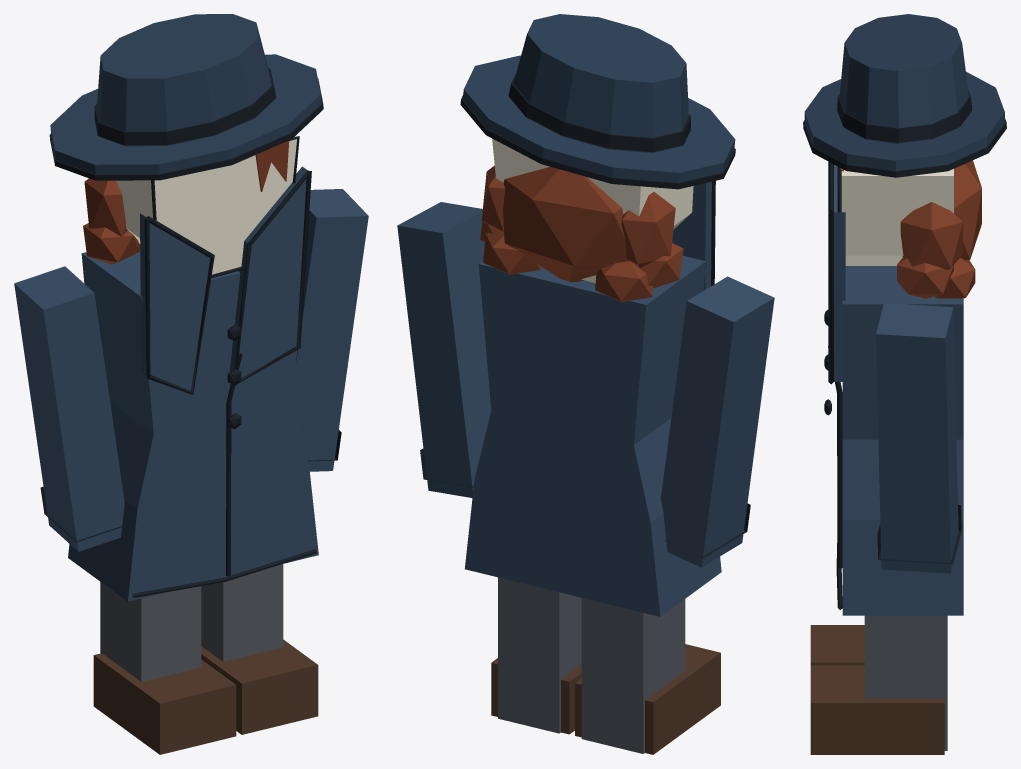
Rendered from biomod_detective.glb.
3 views of the same model, side by side, from view 1: azimuth 30°, elevation 25°; view 2: azimuth 150°, elevation 25°; view 3: azimuth 270°, elevation 25° (orthographic). The views are drawn at different scales.
Parts seen in each view (by area): view 1: BIOMOD_Detective_Torso, BIOMOD_Detective_LeftArm, DRAWING_Crown, BIOMOD_Detective_RightArm, DRAWING_WideFedoraBrim, DRAWING_AngularIvoryFace, BIOMOD_Detective_LeftShoe, DRAWING_CollarRight, DRAWING_CollarLeft, BIOMOD_Detective_LeftLeg, BIOMOD_Detective_RightShoe, BIOMOD_Detective_RightLeg (+9 smaller); view 2: BIOMOD_Detective_Torso, BIOMOD_Detective_LeftArm, BIOMOD_Detective_RightArm, DRAWING_Crown, BIOMOD_Detective_LeftLeg, DRAWING_WideFedoraBrim, DRAWING_AuburnBack, BIOMOD_Detective_RightLeg, BIOMOD_Detective_LeftShoe, DRAWING_AngularIvoryFace, DRAWING_HatRibbon, DRAWING_AuburnSideCurl (+7 smaller); view 3: BIOMOD_Detective_RightArm, BIOMOD_Detective_Torso, DRAWING_Crown, BIOMOD_Detective_RightShoe, DRAWING_WideFedoraBrim, BIOMOD_Detective_RightLeg, DRAWING_AngularIvoryFace, DRAWING_AuburnSideCurl.003, BIOMOD_Detective_LeftShoe, DRAWING_HatRibbon, DRAWING_AuburnBack, DRAWING_CollarRight (+6 smaller).
Boxes of the visible parts, x1,y1,x2,y2 form: BIOMOD_Detective_Torso: (68, 250, 318, 601); BIOMOD_Detective_LeftArm: (14, 266, 124, 551); DRAWING_Crown: (97, 14, 275, 146); BIOMOD_Detective_RightArm: (293, 189, 368, 471); DRAWING_WideFedoraBrim: (50, 54, 321, 174); DRAWING_AngularIvoryFace: (116, 136, 296, 274); BIOMOD_Detective_LeftShoe: (93, 653, 236, 754); DRAWING_CollarRight: (229, 166, 307, 378); DRAWING_CollarLeft: (140, 213, 210, 390); BIOMOD_Detective_LeftLeg: (100, 582, 201, 681); BIOMOD_Detective_RightShoe: (201, 639, 318, 734); BIOMOD_Detective_RightLeg: (201, 564, 283, 661); BIOMOD_Detective_Torso: (464, 255, 721, 616); BIOMOD_Detective_LeftArm: (660, 276, 774, 567); BIOMOD_Detective_RightArm: (397, 202, 491, 497); DRAWING_Crown: (511, 14, 688, 152); BIOMOD_Detective_LeftLeg: (581, 598, 685, 753); DRAWING_WideFedoraBrim: (462, 55, 735, 182); DRAWING_AuburnBack: (503, 166, 629, 281); BIOMOD_Detective_RightLeg: (498, 577, 581, 733); BIOMOD_Detective_LeftShoe: (575, 644, 720, 754); DRAWING_AngularIvoryFace: (492, 138, 693, 283); DRAWING_HatRibbon: (508, 73, 690, 152); DRAWING_AuburnSideCurl: (621, 192, 675, 267); BIOMOD_Detective_RightArm: (876, 303, 958, 573); BIOMOD_Detective_Torso: (842, 266, 963, 615); DRAWING_Crown: (839, 14, 969, 144); BIOMOD_Detective_RightShoe: (810, 665, 944, 754); DRAWING_WideFedoraBrim: (804, 71, 1004, 171); BIOMOD_Detective_RightLeg: (864, 615, 947, 750); DRAWING_AngularIvoryFace: (841, 169, 953, 265); DRAWING_AuburnSideCurl.003: (900, 202, 962, 269); BIOMOD_Detective_LeftShoe: (810, 625, 864, 665); DRAWING_HatRibbon: (837, 90, 972, 142); DRAWING_AuburnBack: (954, 160, 981, 260); DRAWING_CollarRight: (833, 212, 845, 381).
Bounding box in the file's own units: 2.45 × 4.67 × 1.28.
